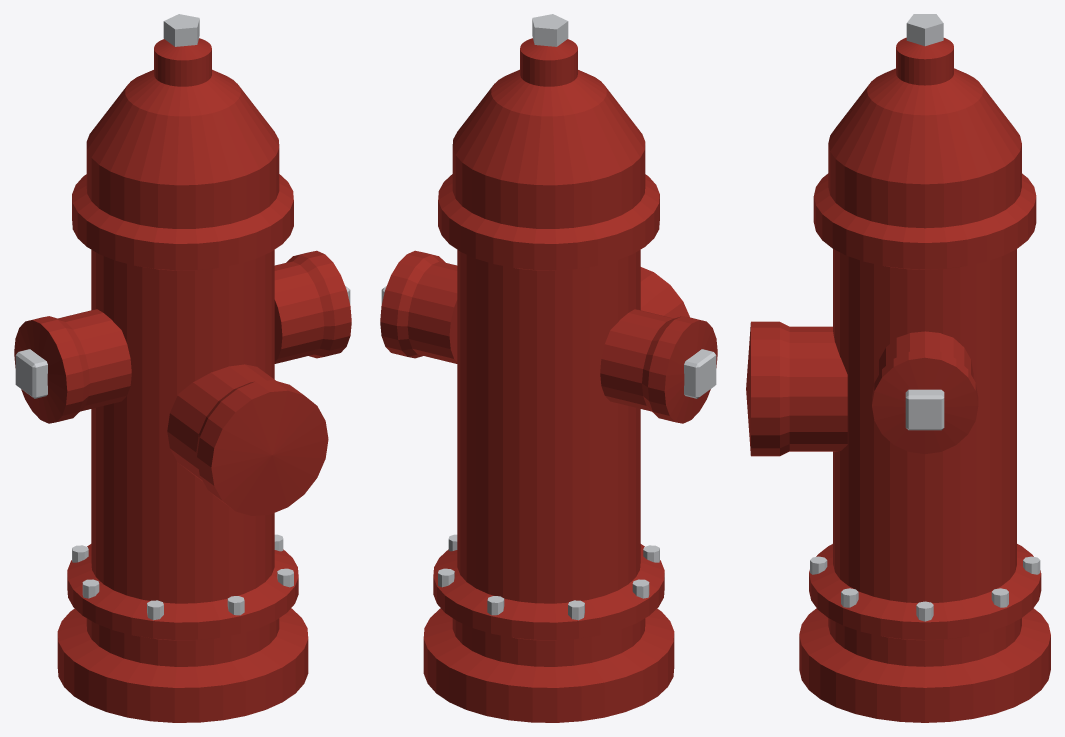
File: hidrante.glb
3 renders of one model, left to right at view 1: azimuth 30°, elevation 25°; view 2: azimuth 150°, elevation 25°; view 3: azimuth 270°, elevation 25°, orthographic.
Visible parts, largest first — view 1: hidrante_hidrante, hidrante_aco; view 2: hidrante_hidrante, hidrante_aco; view 3: hidrante_hidrante, hidrante_aco.
Part boxes in pixels (x1=…): hidrante_hidrante: x1=14, y1=38, x2=351, y2=722; hidrante_aco: x1=15, y1=14, x2=350, y2=620; hidrante_hidrante: x1=380, y1=38, x2=717, y2=722; hidrante_aco: x1=381, y1=14, x2=716, y2=620; hidrante_hidrante: x1=746, y1=37, x2=1050, y2=722; hidrante_aco: x1=810, y1=14, x2=1040, y2=621.
Bounding box in the file's own units: 0.38 × 0.74 × 0.315.
